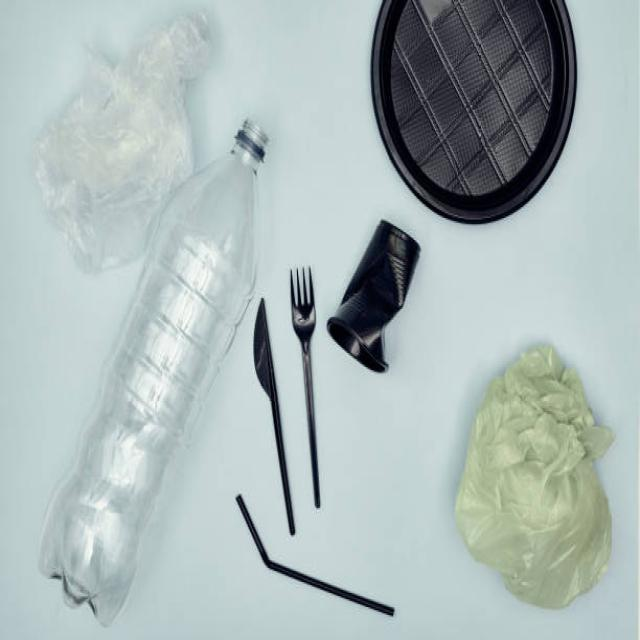plastic: (65, 1, 607, 614)
